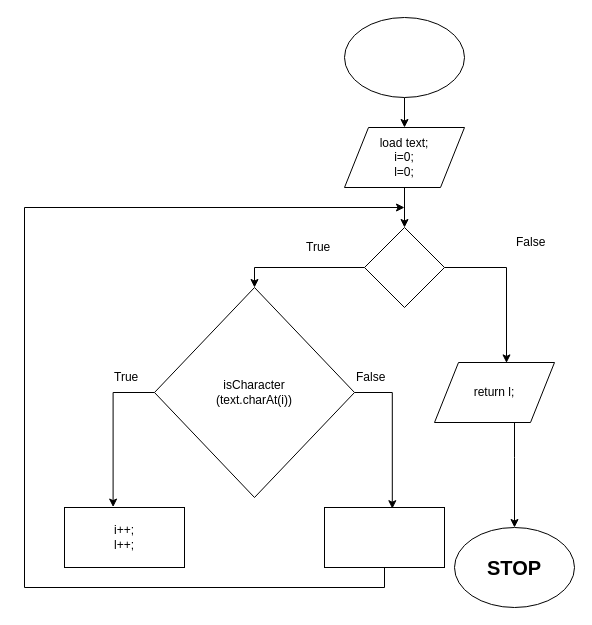
Image size: 592x625. Some labels were removed from this diagram. Each missing label, with the centre of its shape:
"i++;" belongs at [384,537].
"i<text.length" belongs at [404,267].
"START" belongs at [404,57].
